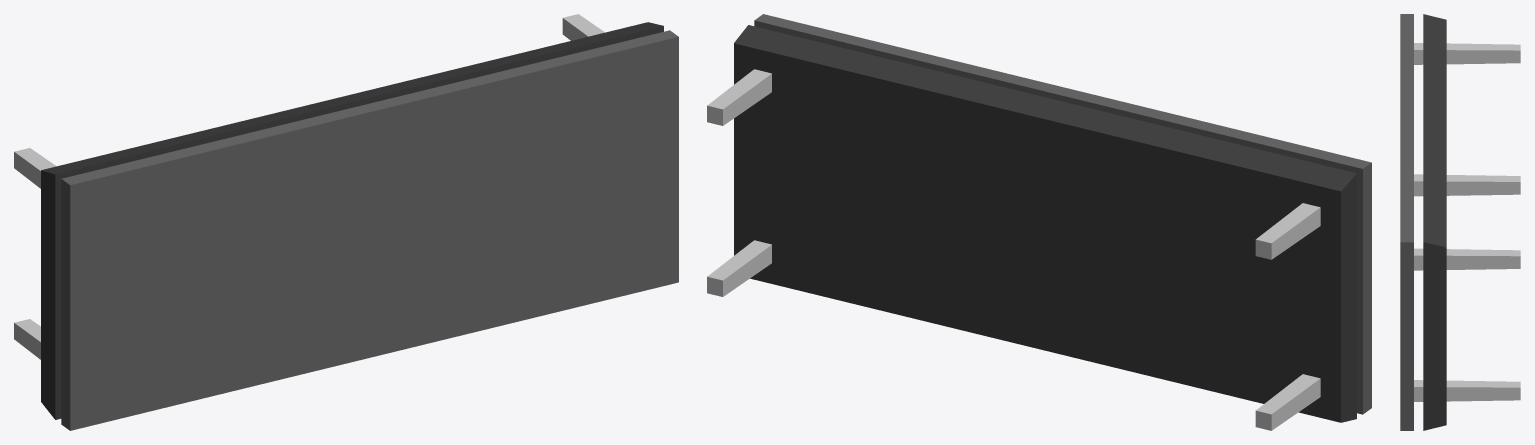
File: Coffee_Table.obj
3 renders of one model, left to right at view 1: azimuth 30°, elevation 25°; view 2: azimuth 150°, elevation 25°; view 3: azimuth 270°, elevation 25°, orthographic. The views are drawn at different scales.
Visible parts, largest first — view 1: Coffee_Table; view 2: Coffee_Table; view 3: Coffee_Table.
Boxes of the visible parts, box(x1,y1,x2,y2) form: Coffee_Table: box(14, 14, 678, 430); Coffee_Table: box(707, 14, 1371, 430); Coffee_Table: box(1400, 14, 1520, 430).
Size of the model in its own units: 1.71 by 0.6601 by 0.3808.
